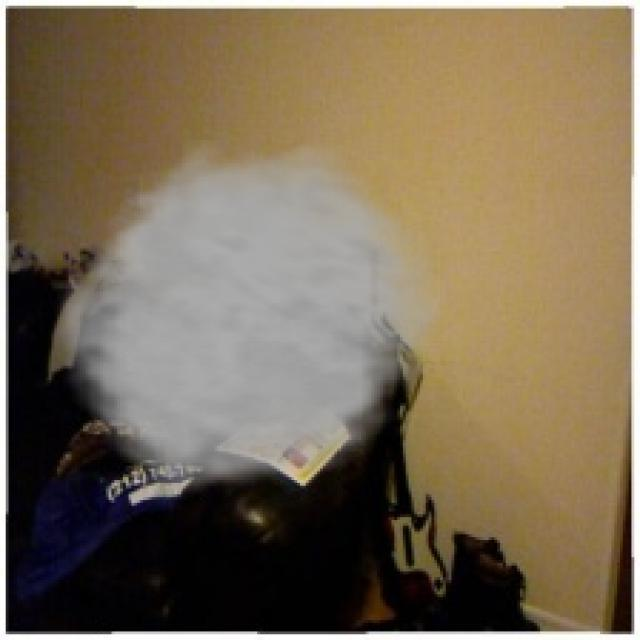Smoke: (42, 140, 458, 509)
